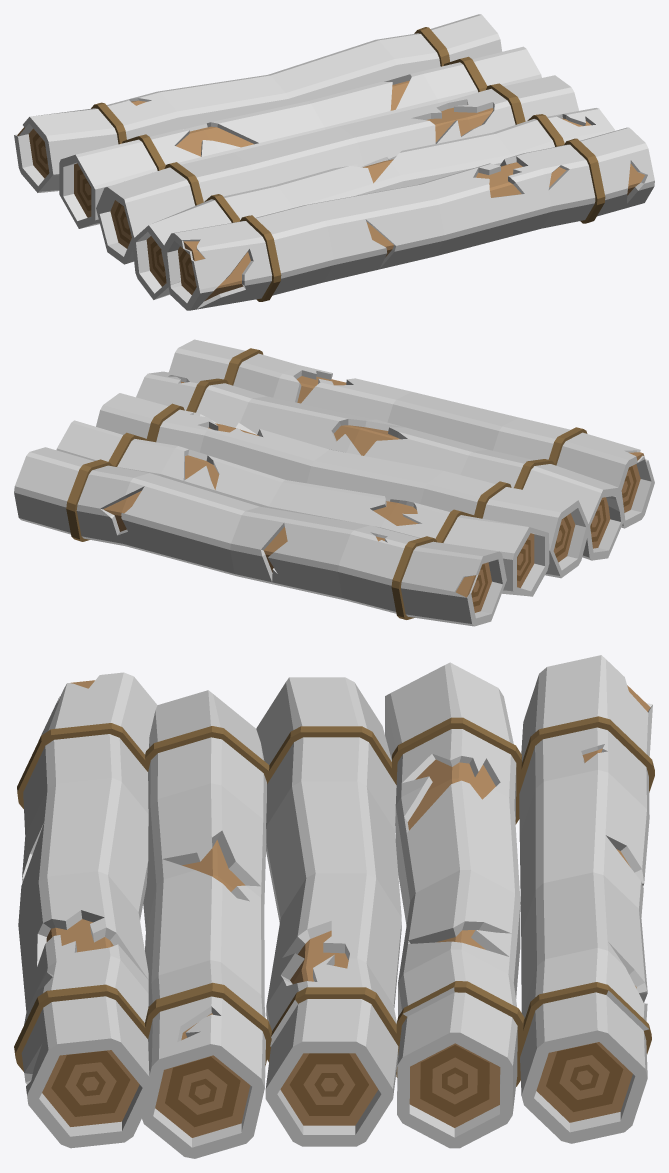
File: RaftOhDamV1Damaged.fbx
3 views of the same model, one above another, from view 1: azimuth 30°, elevation 25°; view 2: azimuth 150°, elevation 25°; view 3: azimuth 270°, elevation 25° (orthographic). The views are drawn at different scales.
Parts seen in each view (by area): view 1: Cylinder.002; view 2: Cylinder.002; view 3: Cylinder.002.
Part boxes in pixels (x1,y1,x2,y2): Cylinder.002: [14, 14, 654, 310]; Cylinder.002: [14, 339, 654, 626]; Cylinder.002: [14, 655, 654, 1158].
Size of the model in its own units: 627 by 123 by 467.
